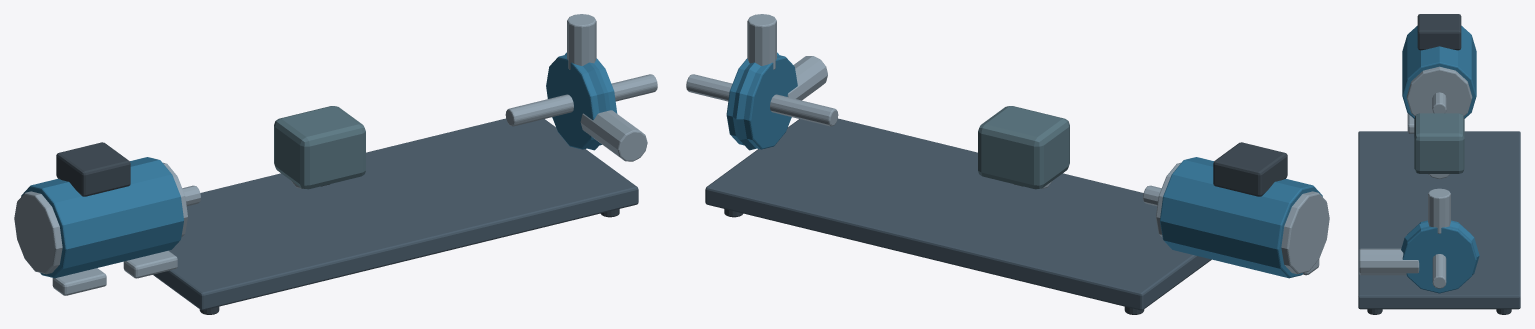
The model's file is circulation-water-pump-lod2.glb.
3 views of the same model, side by side, from view 1: azimuth 30°, elevation 25°; view 2: azimuth 150°, elevation 25°; view 3: azimuth 270°, elevation 25° (orthographic). The views are drawn at different scales.
Parts seen in each view (by area): view 1: drive_base, motor, coupling_guard, circulation_water_stage_1, motor_terminal_box, motor_rear_endcap, circulation_water_shaft, circulation_water_inlet, circulation_water_outlet, motor_foot_left, motor_foot_right, circulation_water_volute; view 2: drive_base, motor, coupling_guard, circulation_water_stage_1, motor_terminal_box, motor_rear_endcap, circulation_water_shaft, circulation_water_outlet, circulation_water_inlet, circulation_water_volute; view 3: drive_base, circulation_water_stage_1, coupling_guard, motor, motor_front_endcap, motor_terminal_box, circulation_water_inlet, circulation_water_outlet, circulation_water_shaft, circulation_water_volute, motor_shaft, motor_foot_right.
Boxes of the visible parts, <box> form: drive_base: <box>153,118,638,310</box>; motor: <box>21,157,183,278</box>; coupling_guard: <box>274,106,365,189</box>; circulation_water_stage_1: <box>546,55,617,149</box>; motor_terminal_box: <box>56,142,130,196</box>; motor_rear_endcap: <box>14,191,62,274</box>; circulation_water_shaft: <box>505,74,657,126</box>; circulation_water_inlet: <box>580,110,647,161</box>; circulation_water_outlet: <box>567,14,596,69</box>; motor_foot_left: <box>52,268,106,295</box>; motor_foot_right: <box>123,250,177,278</box>; circulation_water_volute: <box>564,52,610,150</box>; drive_base: <box>705,118,1211,310</box>; motor: <box>1160,157,1322,278</box>; coupling_guard: <box>978,106,1069,189</box>; circulation_water_stage_1: <box>726,55,797,149</box>; motor_terminal_box: <box>1213,142,1287,196</box>; motor_rear_endcap: <box>1281,191,1329,274</box>; circulation_water_shaft: <box>686,74,838,126</box>; circulation_water_outlet: <box>747,14,776,69</box>; circulation_water_inlet: <box>787,56,827,100</box>; circulation_water_volute: <box>732,52,779,150</box>; drive_base: <box>1358,131,1520,309</box>; circulation_water_stage_1: <box>1402,220,1476,293</box>; coupling_guard: <box>1414,113,1464,173</box>; motor: <box>1402,25,1476,118</box>; motor_front_endcap: <box>1406,66,1472,116</box>; motor_terminal_box: <box>1417,14,1461,50</box>; circulation_water_inlet: <box>1359,248,1419,275</box>; circulation_water_outlet: <box>1428,188,1450,233</box>; circulation_water_shaft: <box>1432,254,1446,288</box>; circulation_water_volute: <box>1401,222,1479,275</box>; motor_shaft: <box>1432,92,1446,113</box>; motor_foot_right: <box>1407,113,1414,133</box>.
Bounding box in the file's own units: 11.59 × 2.87 × 3.4.
